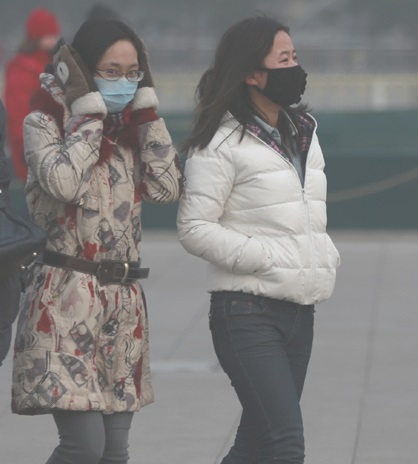person: (176, 15, 343, 464), (16, 7, 177, 464), (9, 5, 66, 181)
